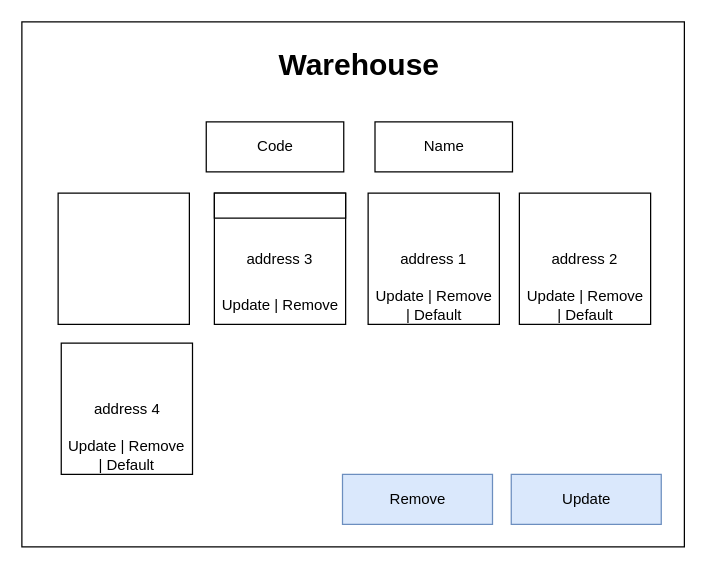
Image size: 706x569. Some labels were removed from this diagram. Each missing label, with the centre of its shape:
Add new address: point 123,258
default: point 279,205
